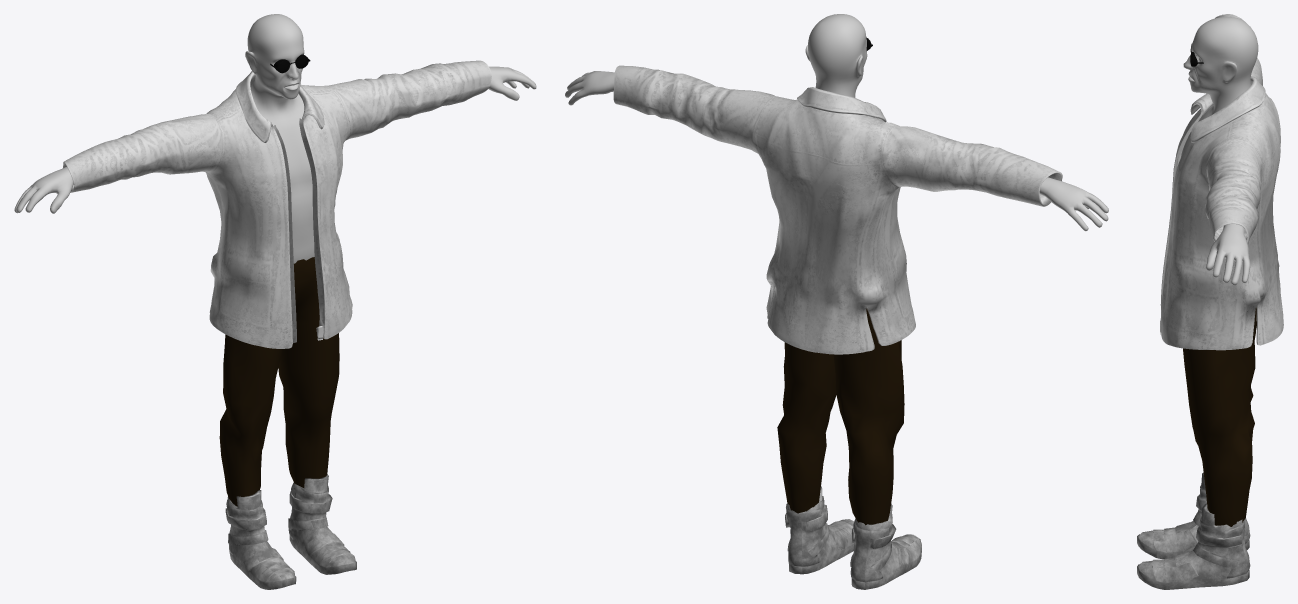
Rendered from scientistChar.fbx.
3 views of the same model, side by side, from view 1: azimuth 30°, elevation 25°; view 2: azimuth 150°, elevation 25°; view 3: azimuth 270°, elevation 25° (orthographic). The views are drawn at different scales.
Visible parts, largest first — view 1: scientistChar_Clothes, scientistChar_Body; view 2: scientistChar_Clothes, scientistChar_Body; view 3: scientistChar_Clothes, scientistChar_Body.
Part boxes in pixels (x1=…): scientistChar_Clothes: x1=63, y1=60, x2=491, y2=589; scientistChar_Body: x1=14, y1=14, x2=536, y2=263; scientistChar_Clothes: x1=613, y1=65, x2=1062, y2=589; scientistChar_Body: x1=565, y1=14, x2=1108, y2=231; scientistChar_Clothes: x1=1137, y1=14, x2=1283, y2=589; scientistChar_Body: x1=1181, y1=14, x2=1258, y2=285.
Bounding box in the file's own units: 186 × 184 × 44.69.
